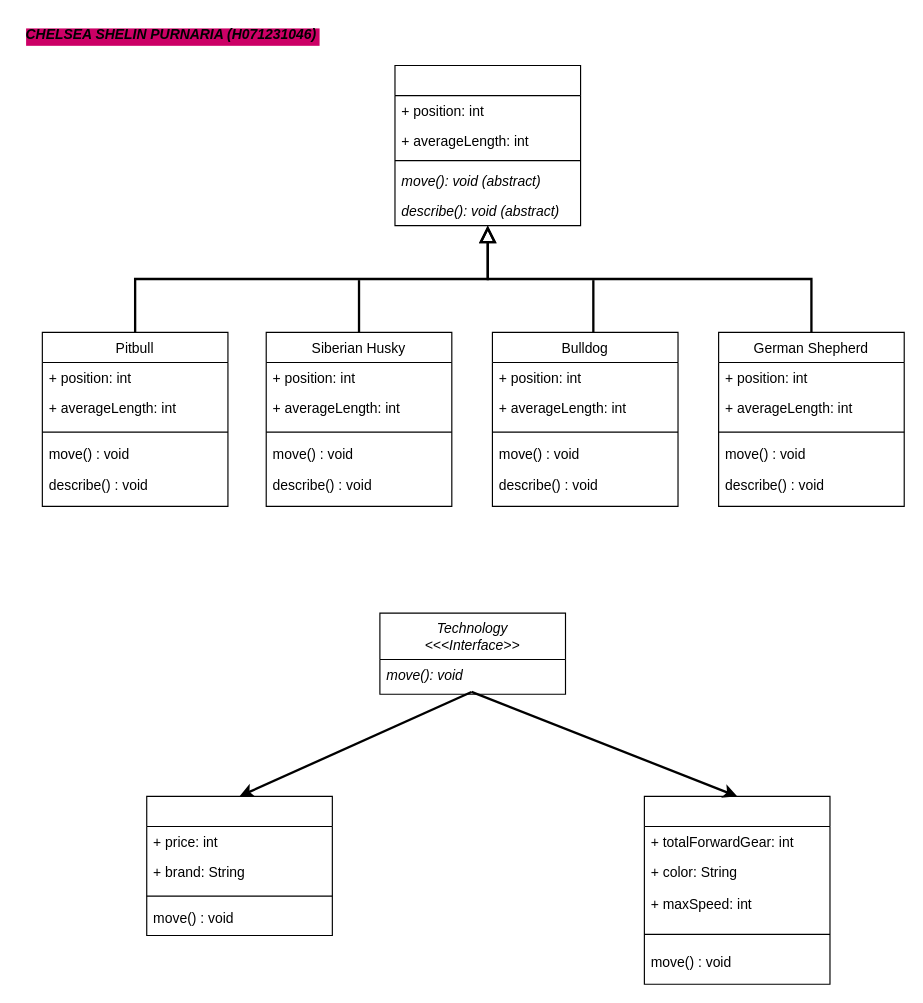
Some shapes in this 923 by 1003 pixel diagram are drawn without their labels. Each missing label, with the box of its shape:
Car: (643, 795, 830, 984)
Dog (abstract): (394, 64, 581, 226)
Smartphone: (146, 795, 332, 936)
